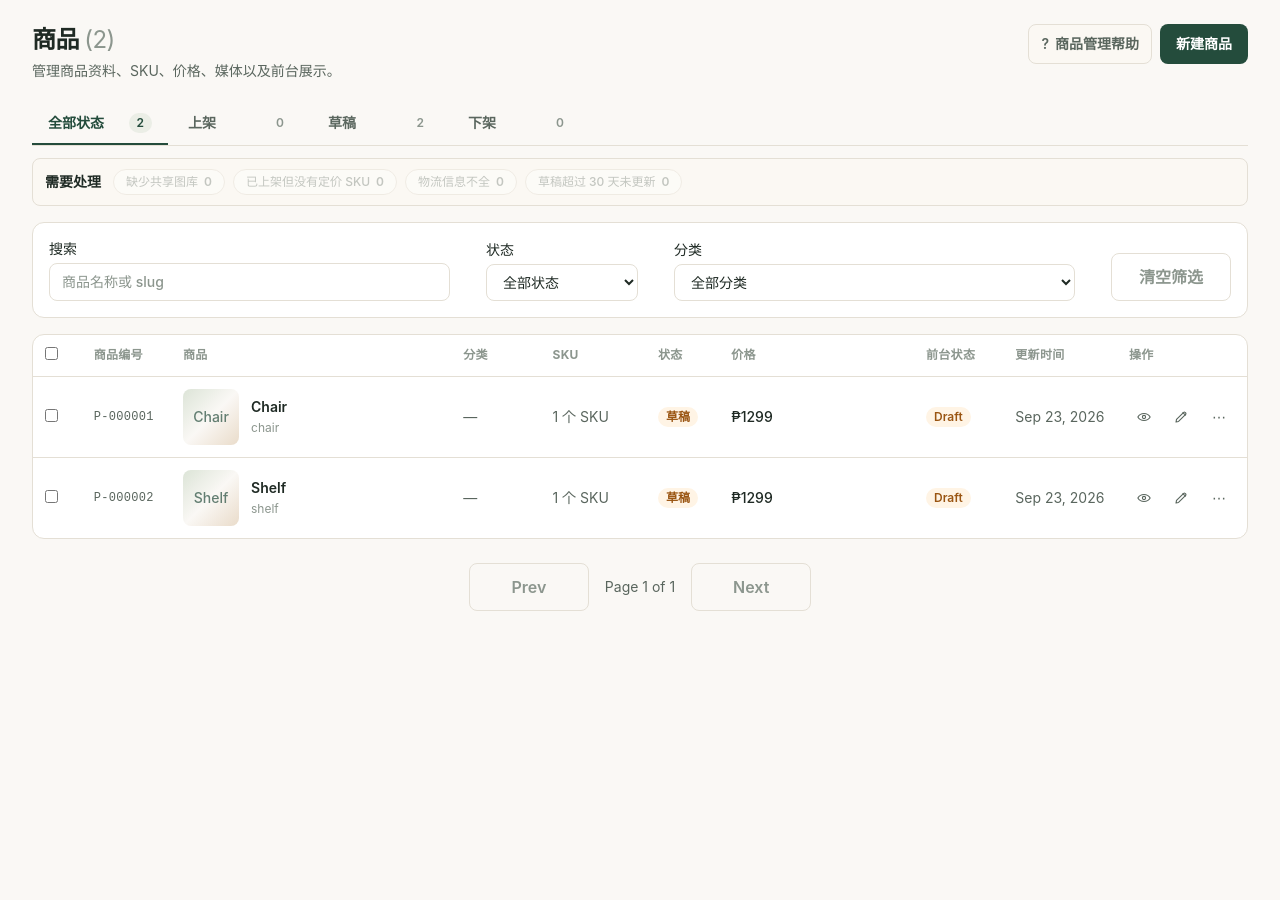
Scenario: AdminProductsPage bulk delete › applies a custom banner only to selected products
This screenshot has width=1280, height=900.
Click the checkbox named "选择 Chair". click: (52, 415)
box: [45,409,58,422]
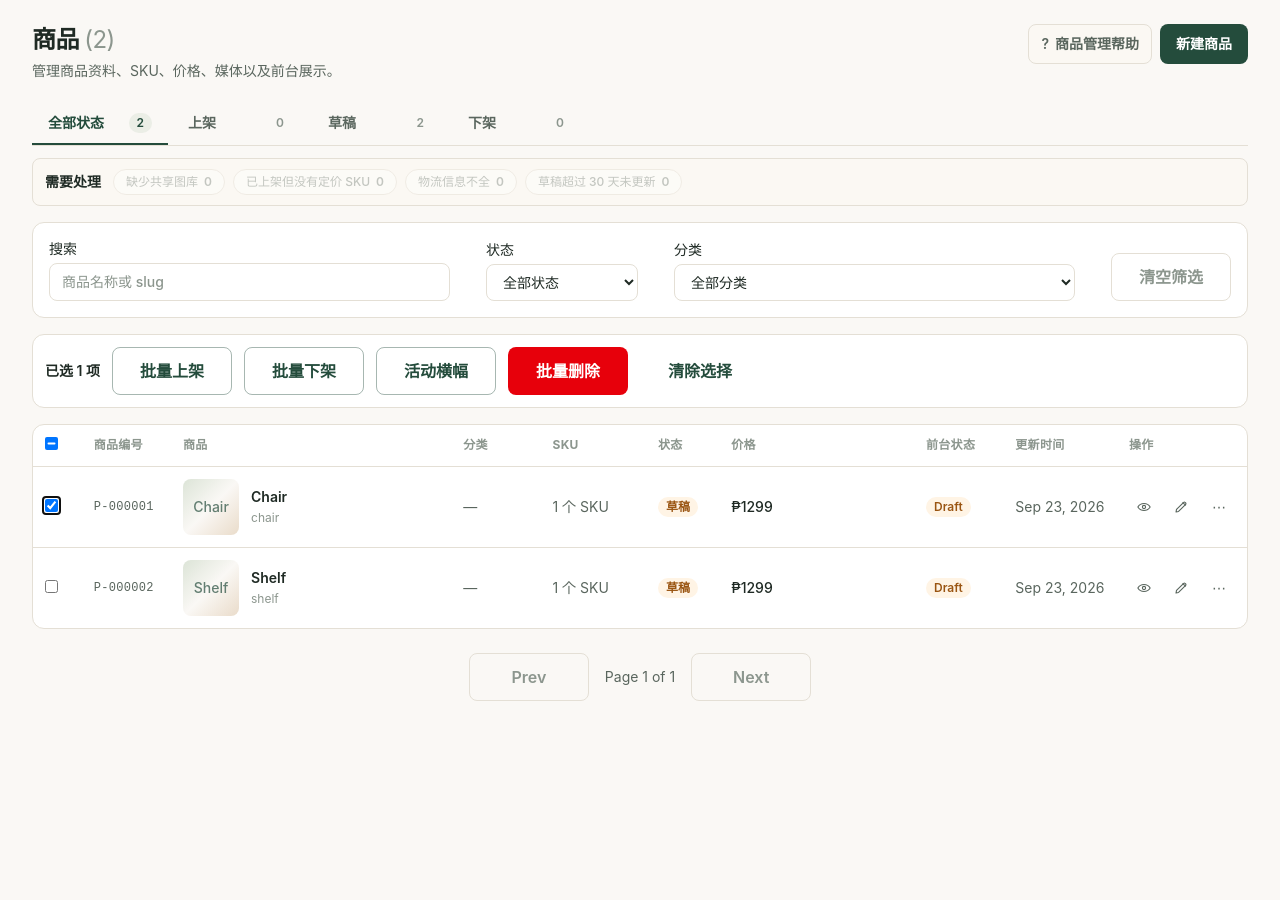
Click the button "活动横幅". click: (436, 371)
box: [376,347,496,395]
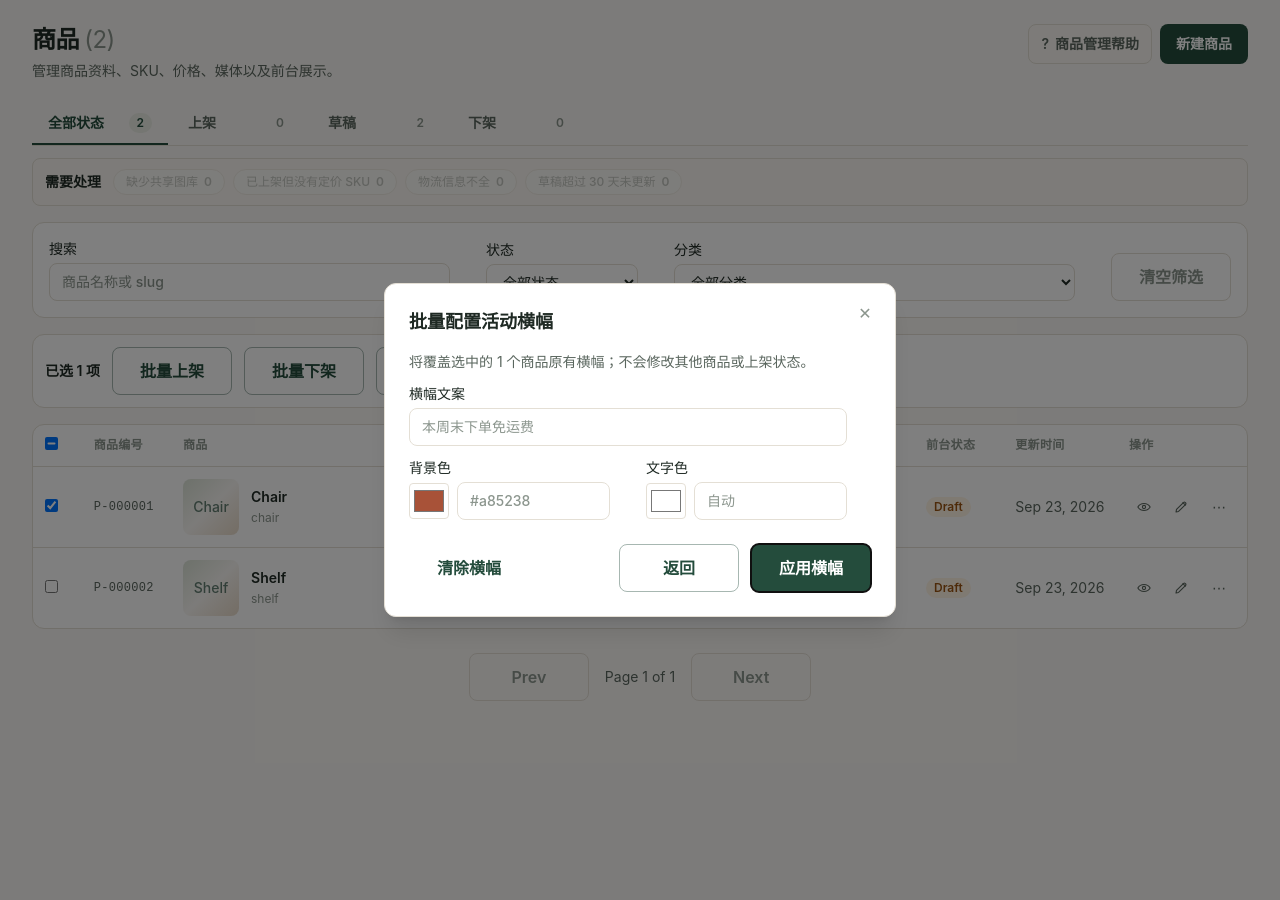
Type "Weekend offer" into the field labelled "横幅文案". click: (628, 427)
box: [409,408,847,446]
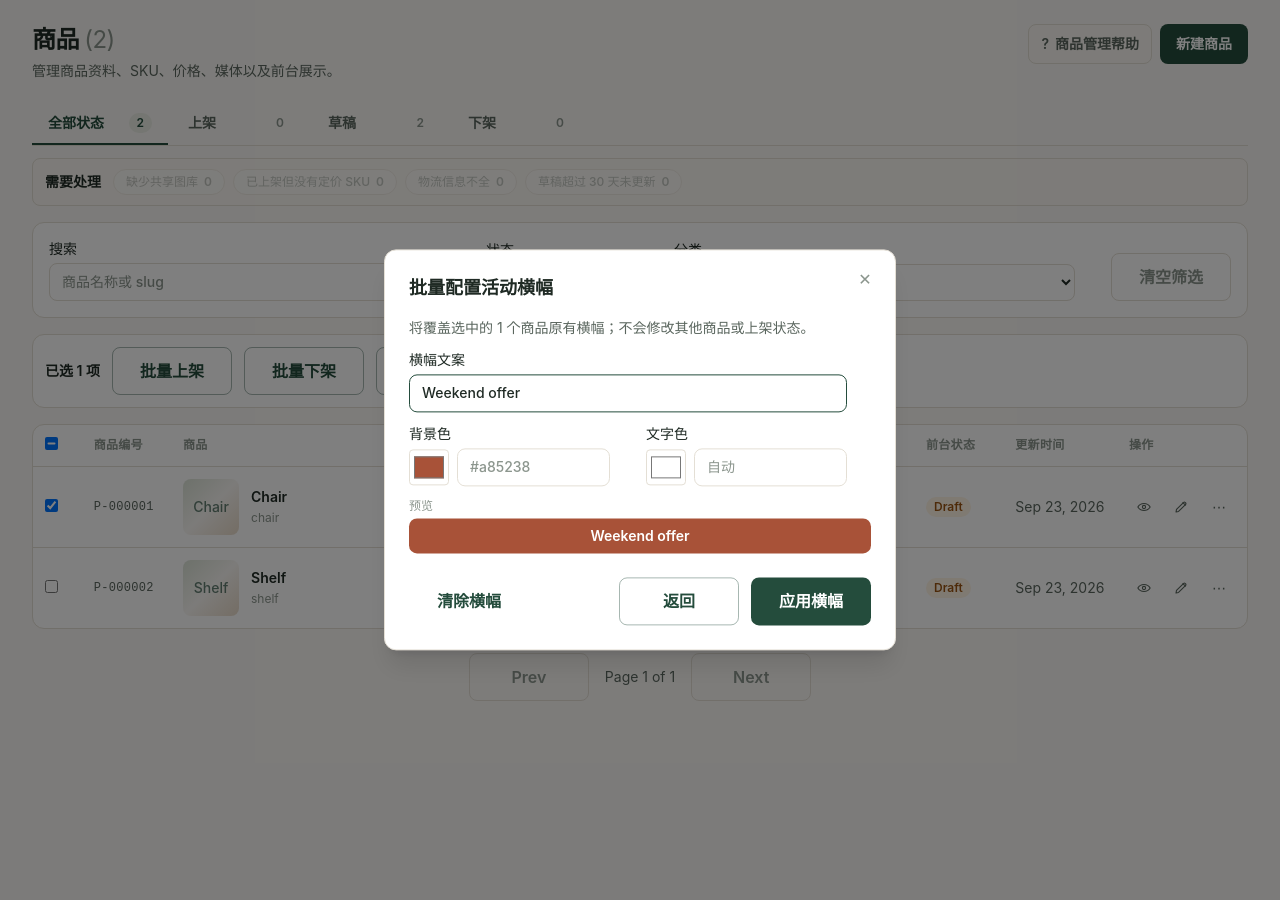
Click the button "应用横幅". click: (811, 602)
box: [751,578,871,626]
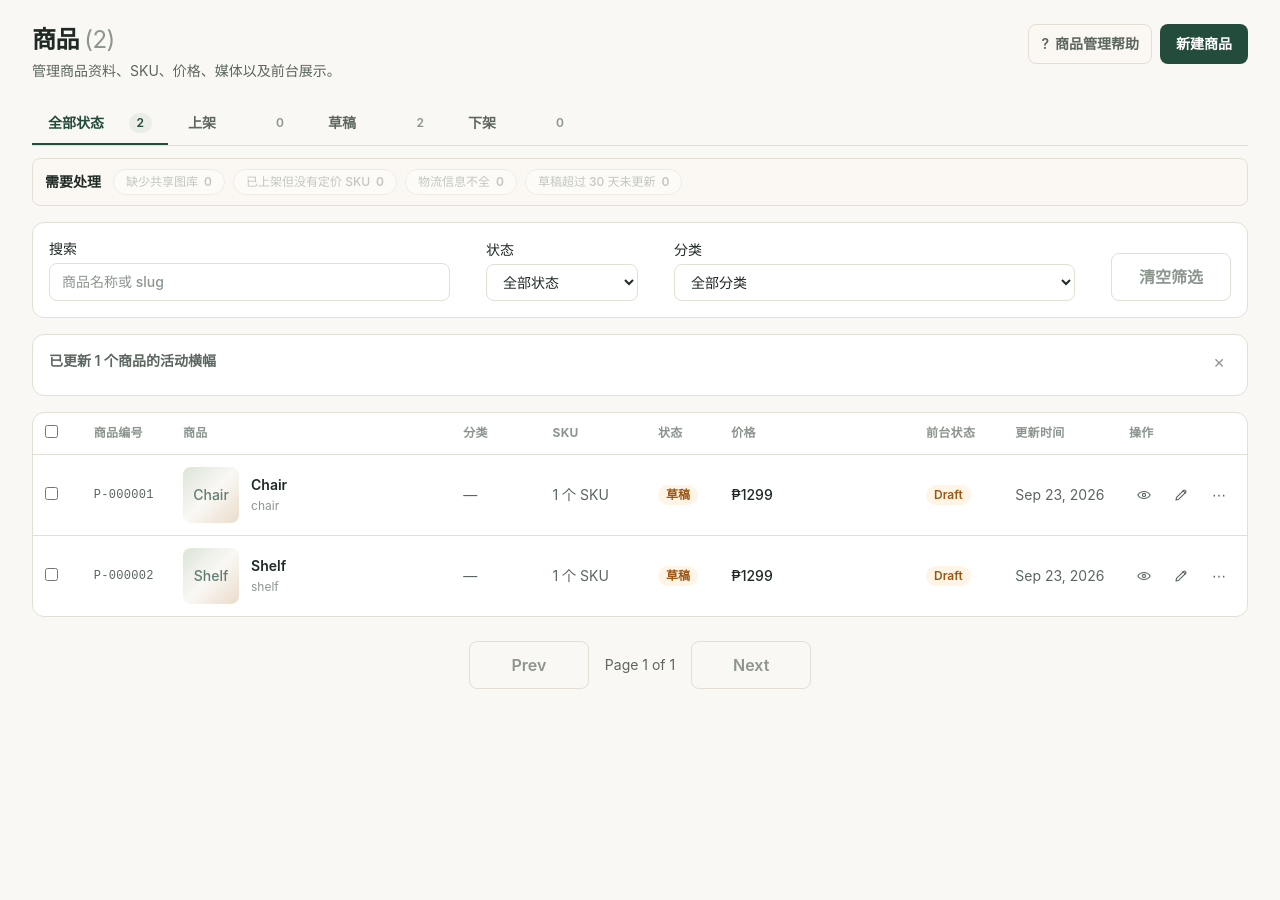
expect the text "已更新 1 个商品的活动横幅" is shown: met, box [49,351,216,371]
